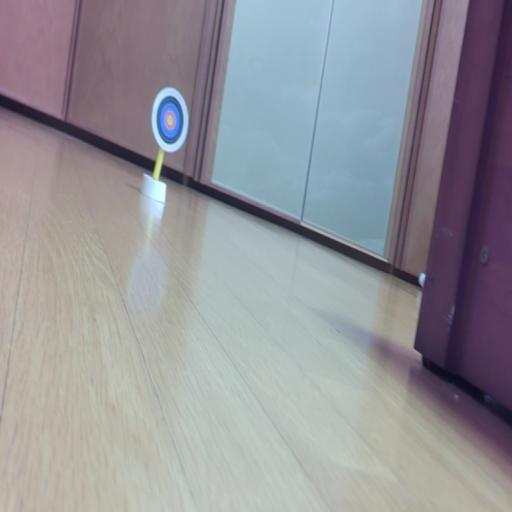target: (152, 87, 188, 151)
